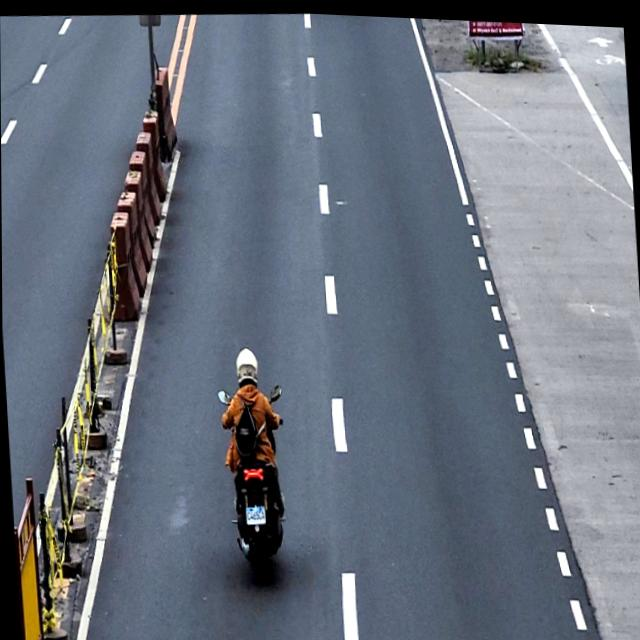License-Plate: (244, 500, 266, 524)
Motorcycle: (217, 379, 293, 584)
